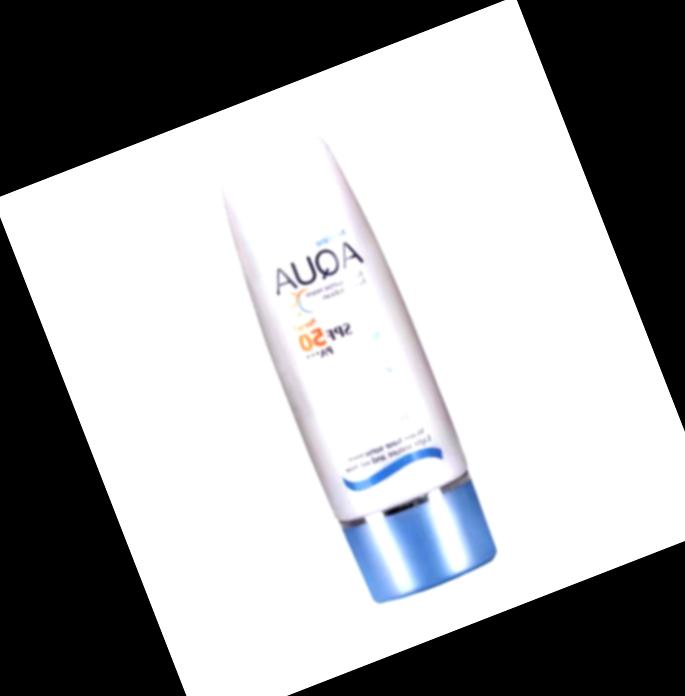cosmetic: (198, 120, 504, 611)
